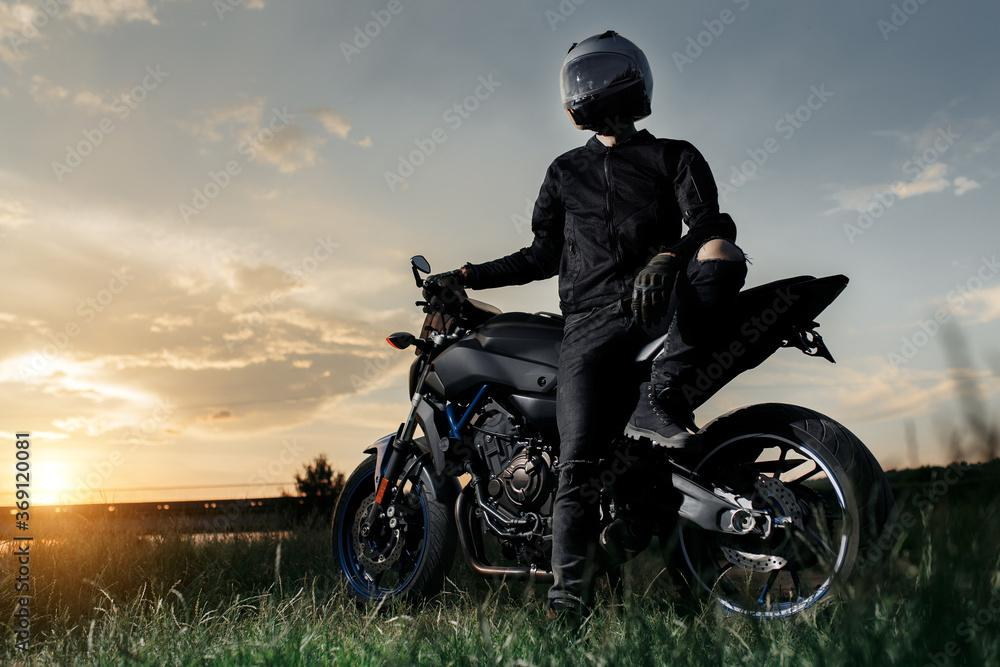helmet: (559, 29, 654, 132)
